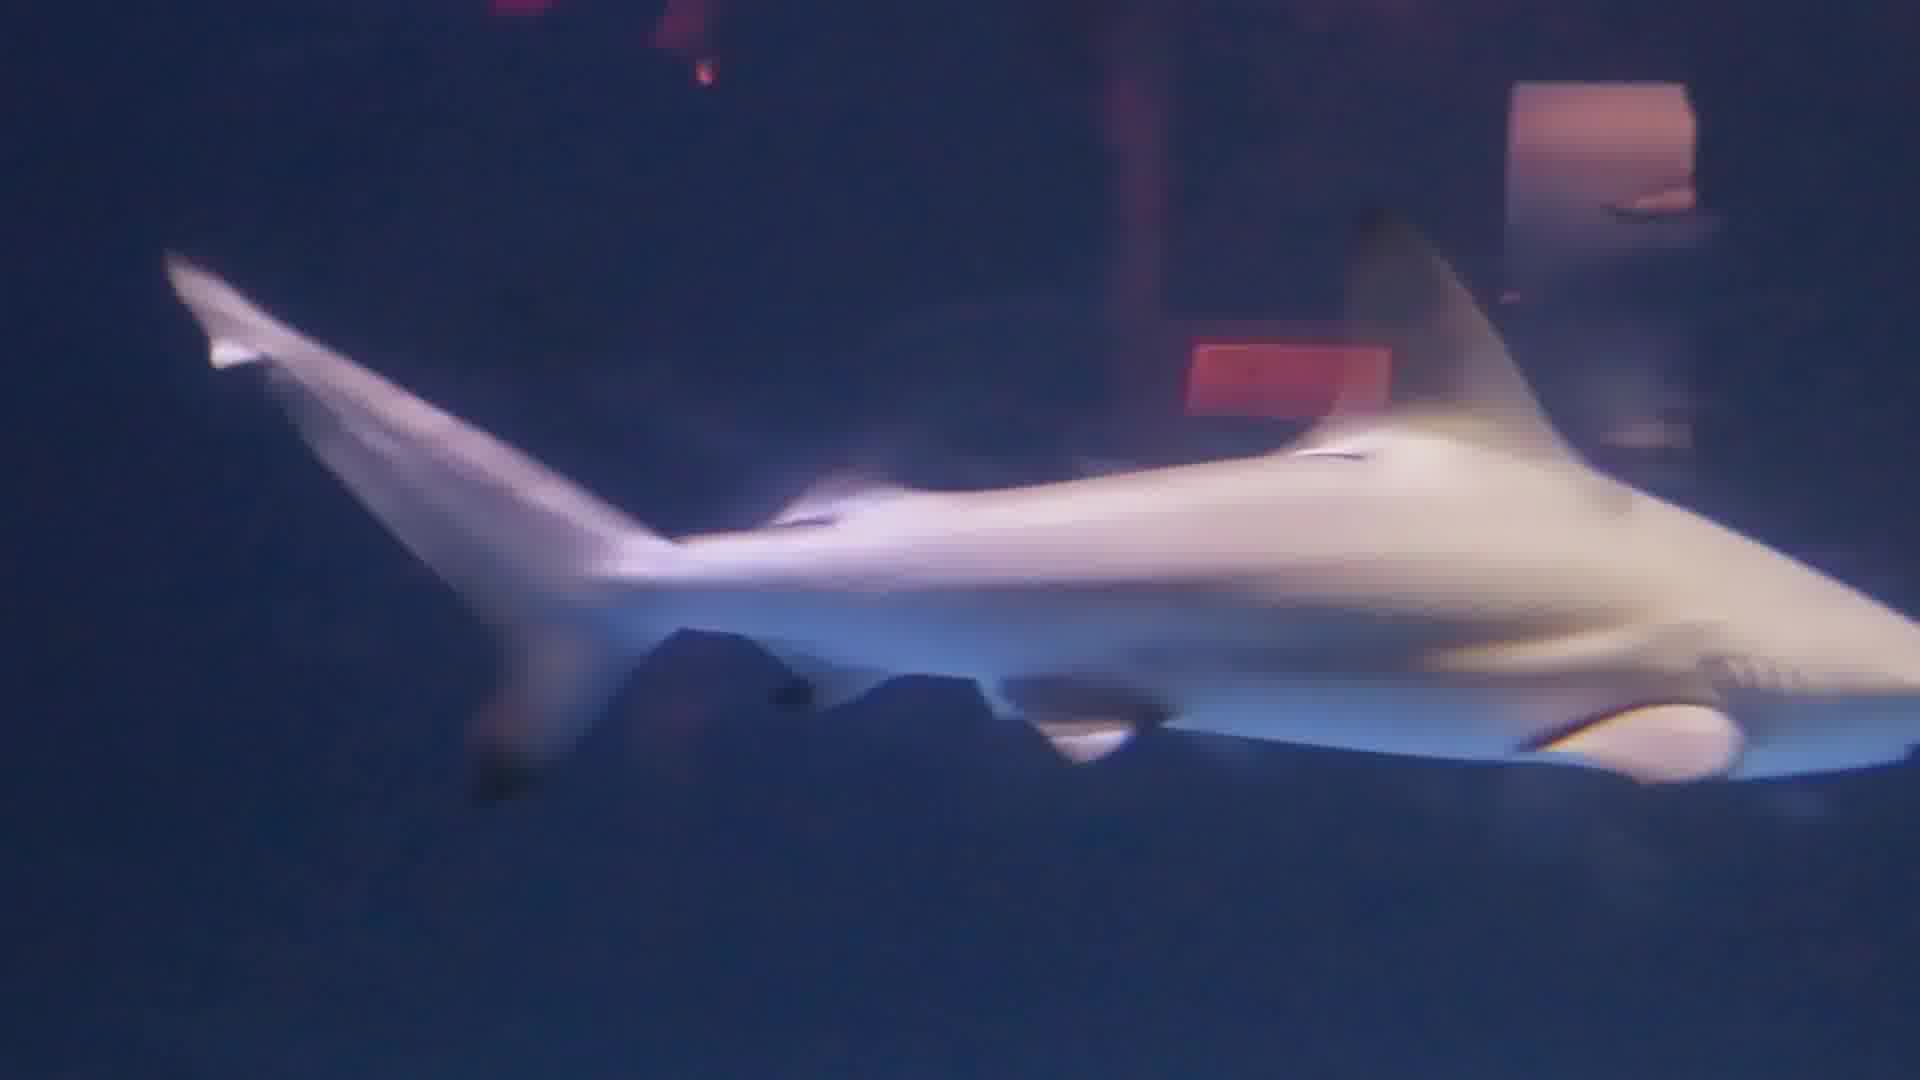Carcharhinus leucas: (175, 107, 1915, 829)
